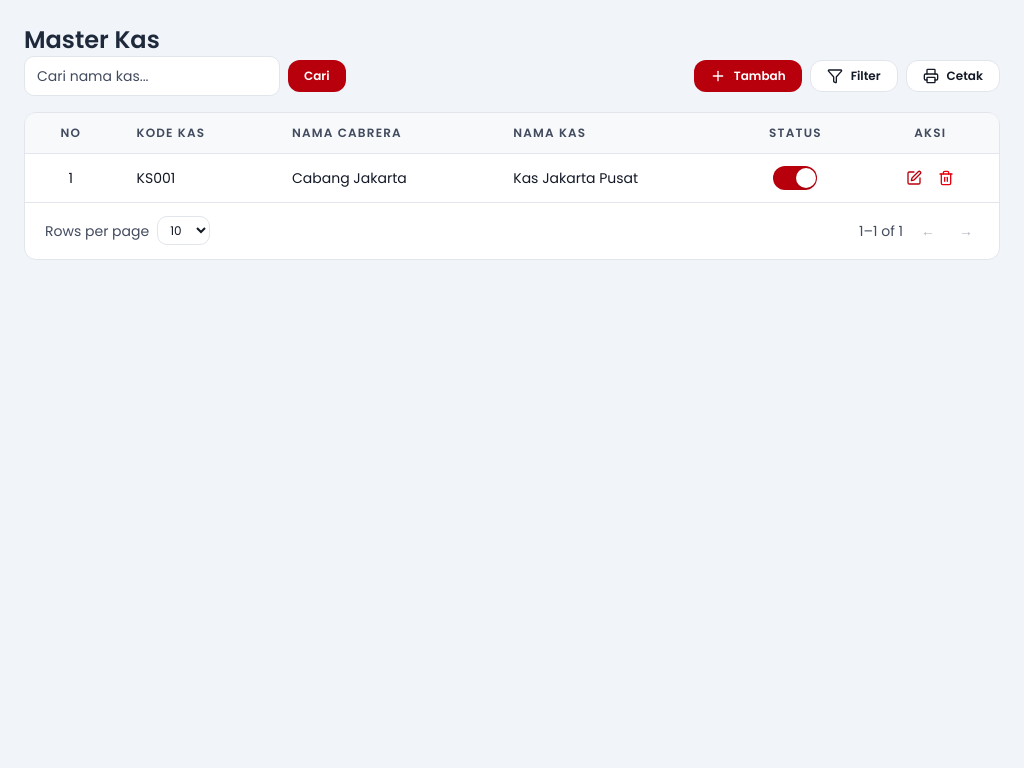
Test: MasterKasScreen › opens filter popup when Filter is clicked
The width and height of the screenshot is (1024, 768).
Click the button "Filter": {"x": 854, "y": 76} left=810, top=60, right=898, bottom=92
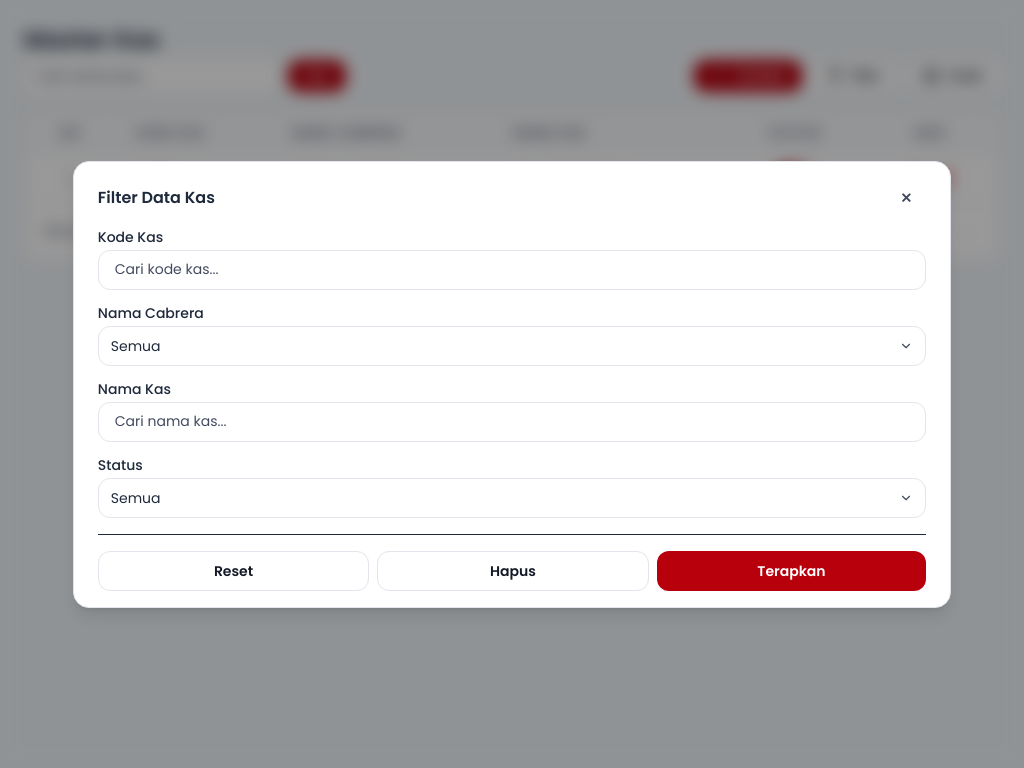
Expected: the heading "Filter Data Kas" is shown, left=98, top=186, right=215, bottom=210
